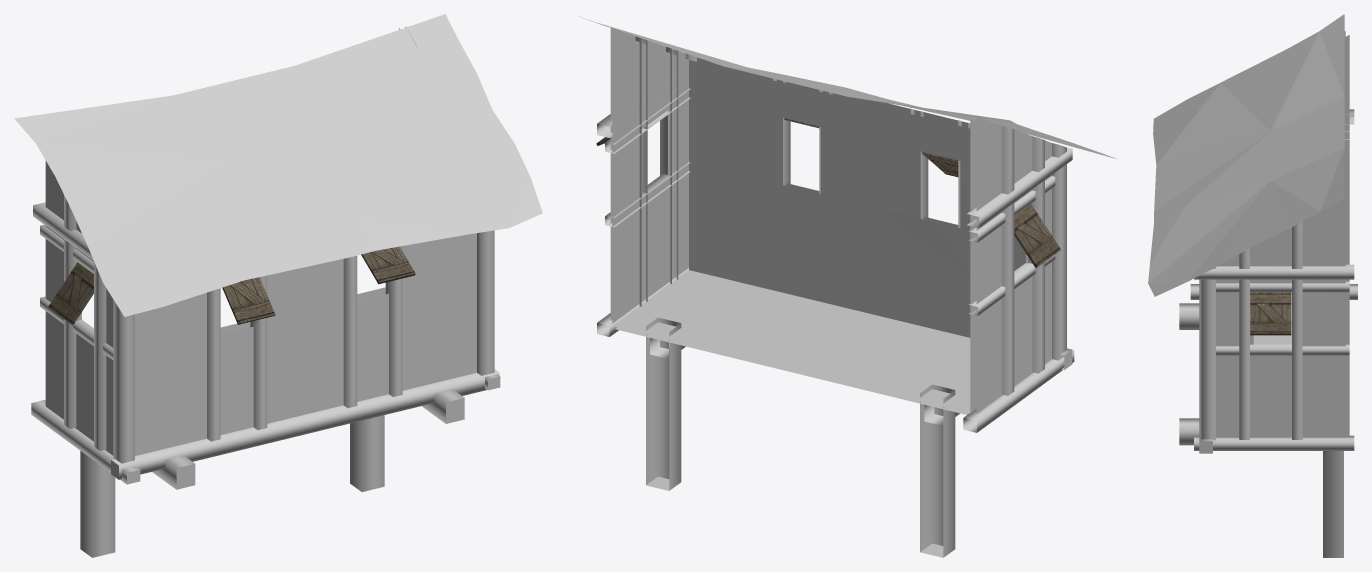
Rendered from Tower_Add1_LOD1.fbx.
3 renders of one model, left to right at view 1: azimuth 30°, elevation 25°; view 2: azimuth 150°, elevation 25°; view 3: azimuth 270°, elevation 25°, orthographic. The views are drawn at different scales.
Visible parts, largest first — view 1: polySurface1757; view 2: polySurface1757; view 3: polySurface1757.
Boxes of the visible parts, x1=… form: polySurface1757: x1=14, y1=14, x2=542, y2=557; polySurface1757: x1=578, y1=16, x2=1117, y2=557; polySurface1757: x1=1148, y1=14, x2=1357, y2=557.
Size of the model in its own units: 7.41 by 7.22 by 3.51.
